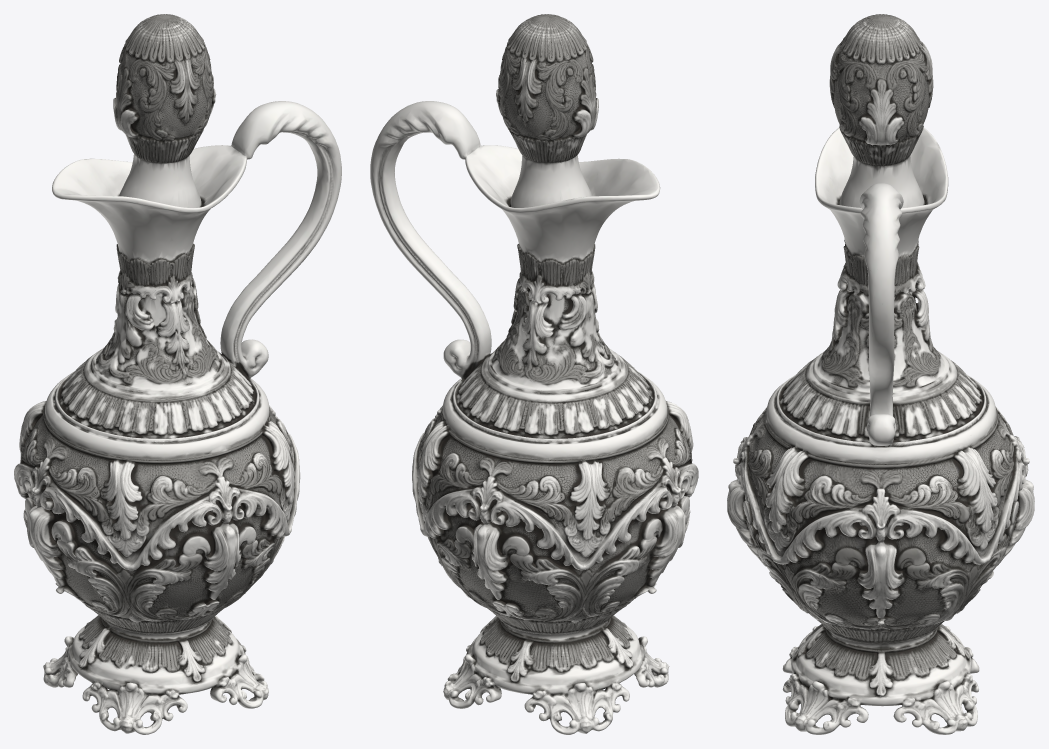
Rendered from ewer-2k.glb.
3 renders of one model, left to right at view 1: azimuth 30°, elevation 25°; view 2: azimuth 150°, elevation 25°; view 3: azimuth 270°, elevation 25°, orthographic. The views are drawn at different scales.
Parts seen in each view (by area): view 1: Ewer; view 2: Ewer; view 3: Ewer.
Boxes of the visible parts, x1,y1,x2,y2 form: Ewer: (14,14,341,734); Ewer: (370,14,698,734); Ewer: (727,14,1034,734).
Bounding box in the file's own units: 0.9214 × 1.9 × 0.7743.
1 material, 1 textured.
